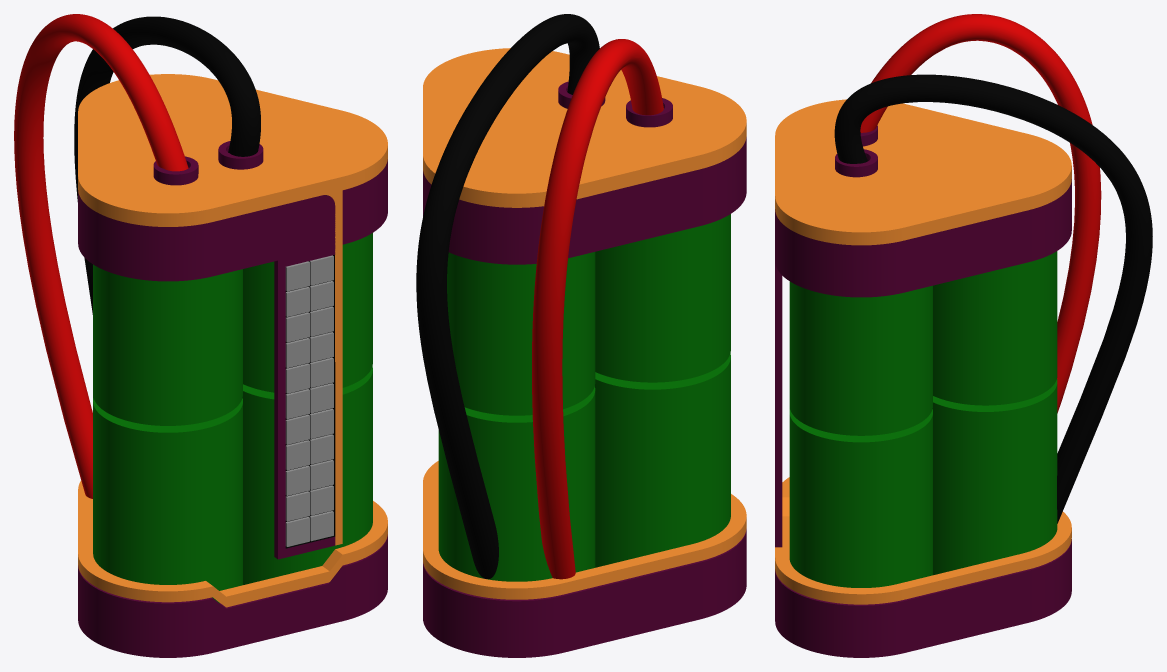
File: batteryLabeledbackup.glb
3 views of the same model, side by side, from view 1: azimuth 30°, elevation 25°; view 2: azimuth 150°, elevation 25°; view 3: azimuth 270°, elevation 25° (orthographic). The views are drawn at different scales.
Parts seen in each view (by area): view 1: Mesh_0, Mesh_2, Mesh_1, Mesh_5, Mesh_4, 14, 16, 18, 6, 8, 10, 4 (+15 smaller); view 2: Mesh_0, Mesh_2, Mesh_1, Mesh_4, Mesh_5; view 3: Mesh_0, Mesh_2, Mesh_1, Mesh_4, Mesh_5.
Part boxes in pixels (x1,y1,x2,y2): Mesh_0: (93, 195, 372, 603); Mesh_2: (78, 74, 387, 607); Mesh_1: (78, 141, 387, 657); Mesh_5: (14, 14, 188, 498); Mesh_4: (74, 16, 335, 548); 14: (285, 363, 309, 393); 16: (285, 338, 309, 368); 18: (285, 312, 309, 342); 6: (285, 465, 309, 495); 8: (285, 440, 309, 470); 10: (285, 414, 309, 444); 4: (285, 491, 309, 521); Mesh_0: (438, 214, 730, 581); Mesh_2: (423, 48, 746, 599); Mesh_1: (423, 81, 746, 657); Mesh_4: (416, 14, 599, 578); Mesh_5: (532, 39, 663, 579); Mesh_0: (789, 251, 1057, 587); Mesh_2: (775, 99, 1071, 604); Mesh_1: (775, 125, 1071, 657); Mesh_4: (834, 74, 1152, 523); Mesh_5: (860, 14, 1101, 413).
Bounding box in the file's own units: 2.2 × 4.13 × 2.63.
